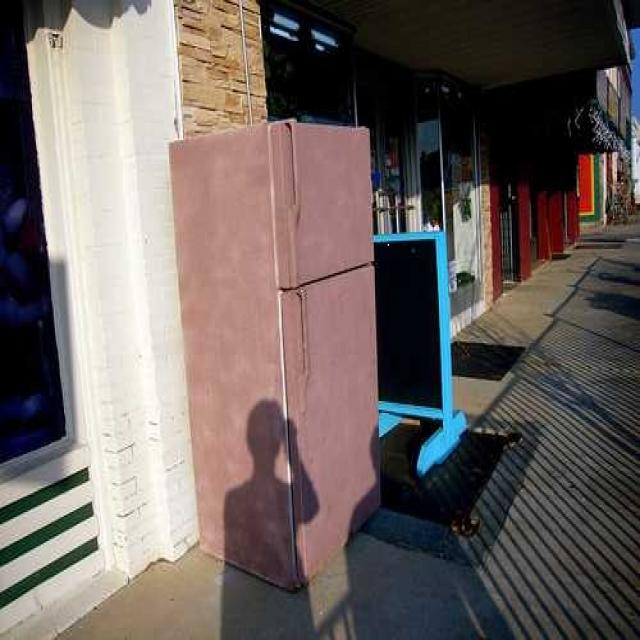refrigerator: (264, 121, 379, 582)
